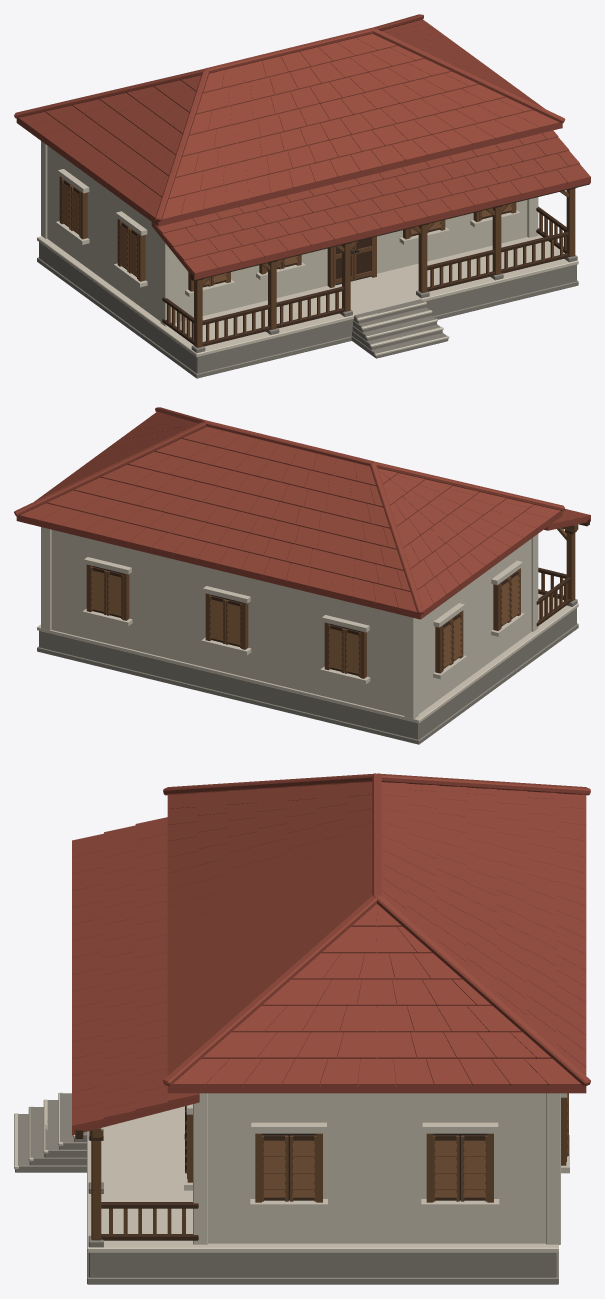
File: sundy_house.glb
3 views of the same model, one above another, from view 1: azimuth 30°, elevation 25°; view 2: azimuth 150°, elevation 25°; view 3: azimuth 270°, elevation 25° (orthographic). The views are drawn at different scales.
Parts seen in each view (by area): view 1: sundy_house; view 2: sundy_house; view 3: sundy_house.
Boxes of the visible parts, x1,y1,x2,y2 form: sundy_house: (14,14,590,378); sundy_house: (14,407,590,744); sundy_house: (14,773,590,1284).
Bounding box in the file's own units: 15.5 × 7.66 × 12.81.
